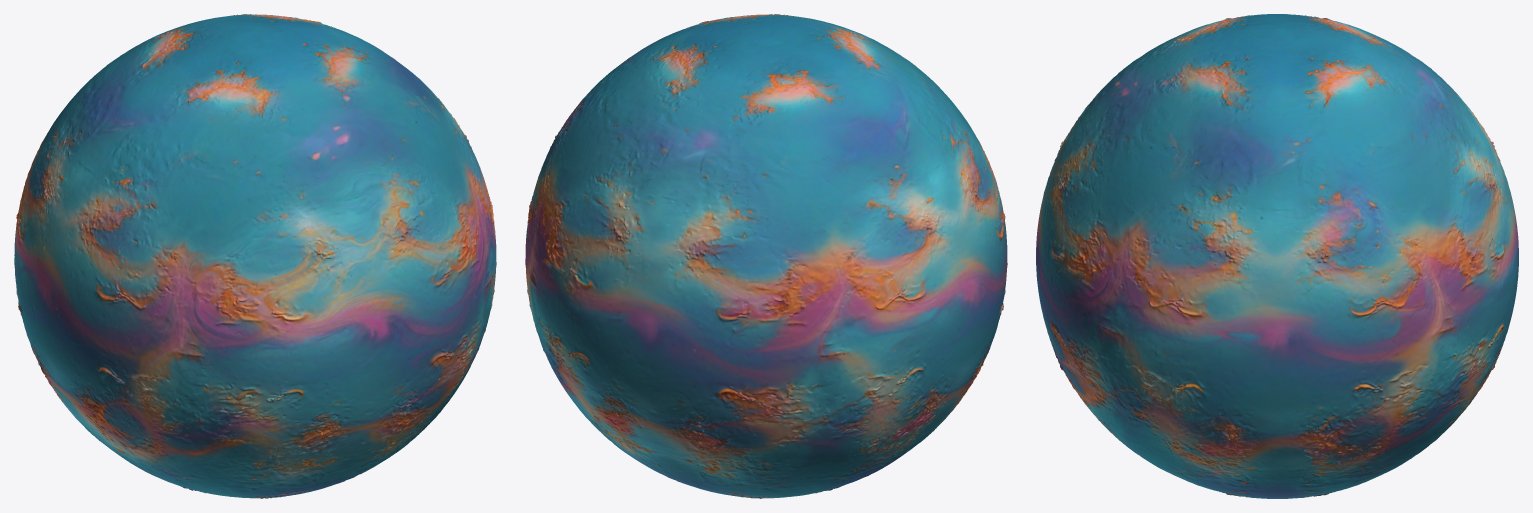
Rendered from main_planet.glb.
The picture shows the model from 3 angles, left to right: view 1: azimuth 30°, elevation 25°; view 2: azimuth 150°, elevation 25°; view 3: azimuth 270°, elevation 25°; orthographic projection.
Bounding box in the file's own units: 1.9 × 1.9 × 1.9.
1 material, 1 textured.
